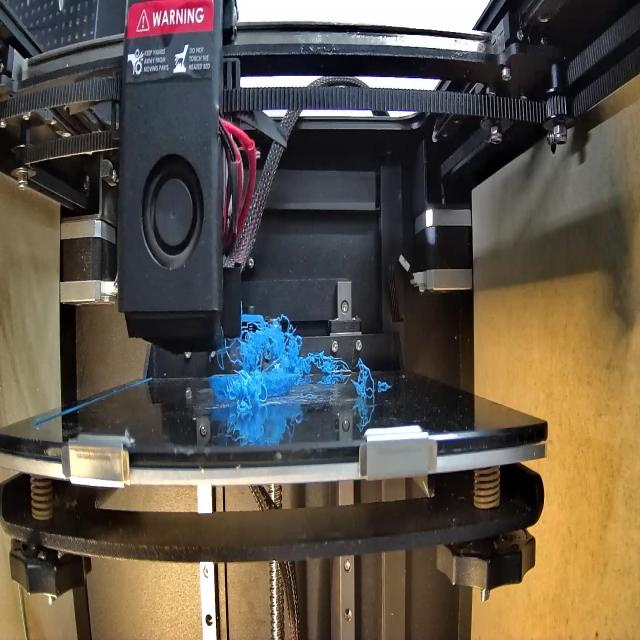spaghetti: (231, 319, 340, 371), (222, 370, 269, 415), (348, 358, 374, 402)
